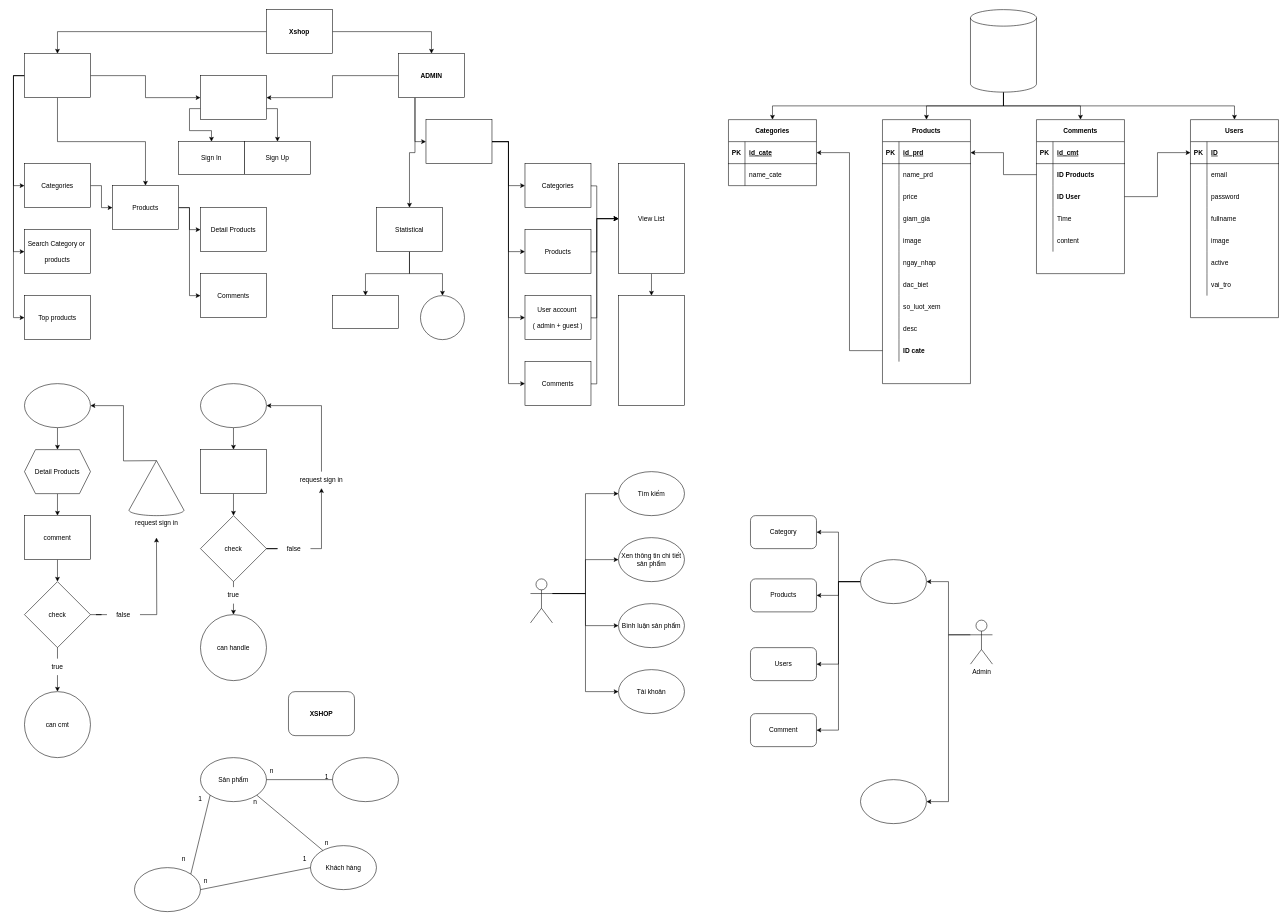
Image size: 1288x921. Some labels were removed from this diagram. The box of each missing label's shape, as (x1, y1, x2, y2) in pixels:
Access manage: (200, 449, 266, 494)
account: (200, 75, 266, 120)
ADD EDIT DELETE SEARCH: (618, 295, 684, 406)
Bình luận: (134, 867, 200, 912)
Chart: (420, 295, 464, 340)
Client: (530, 578, 552, 623)
DB XSHOP: (970, 9, 1036, 92)
Guest: (24, 383, 90, 428)
Loại hàng: (332, 757, 398, 802)
Manage: (425, 119, 492, 164)
Manager / Employee: (200, 383, 266, 428)
Quản lý: (860, 559, 926, 604)
SITE: (24, 53, 90, 98)
Table: (332, 295, 398, 329)
Thống kê: (860, 779, 926, 824)
